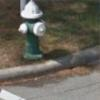a fire hydrant: (16, 0, 48, 64)
